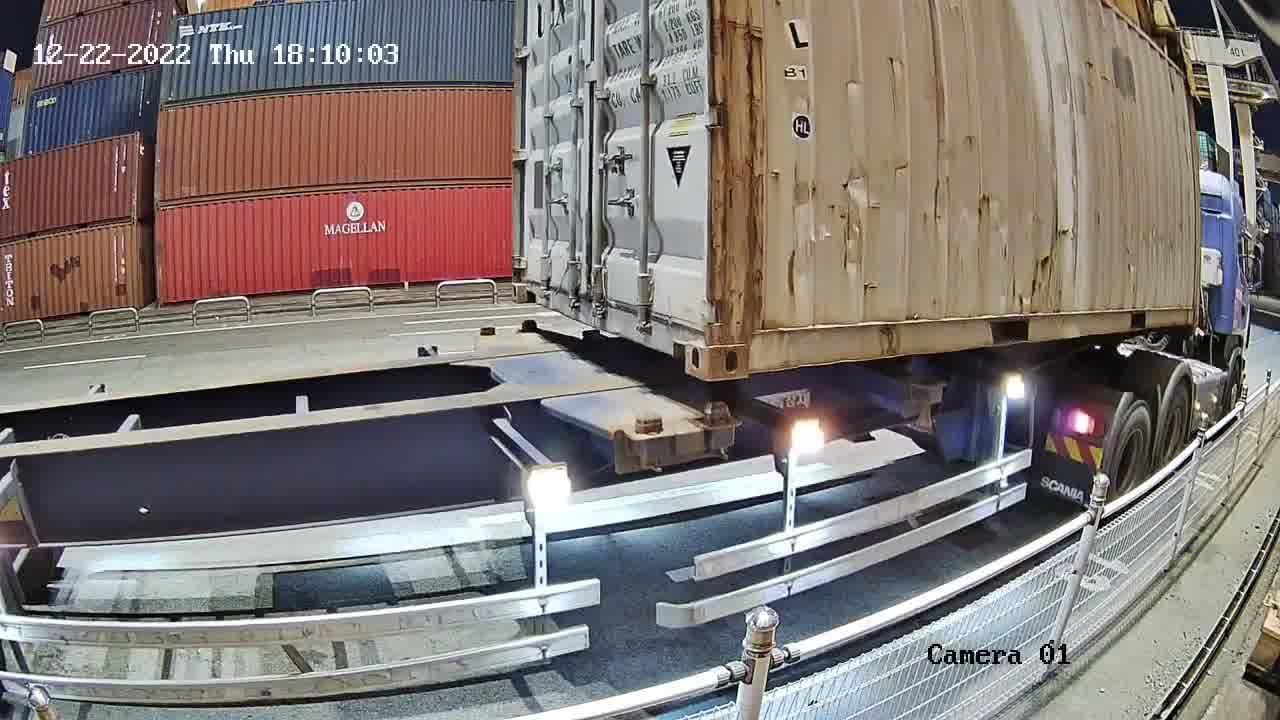Chassis: (517, 324, 734, 432), (475, 326, 667, 441)
Cone: (624, 411, 663, 472), (692, 399, 735, 453)
Hole_L: (711, 295, 783, 382), (510, 260, 544, 305)
Hole_R: (659, 291, 710, 378)
Tire: (1108, 405, 1154, 500), (1157, 383, 1190, 468)
